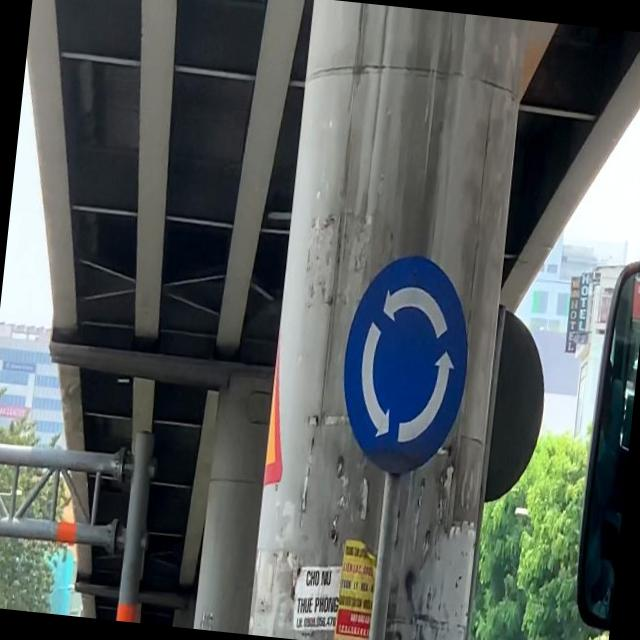R-303: (334, 247, 476, 476)
